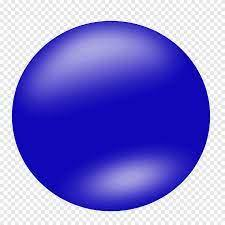blue_circle: (2, 14, 220, 220)
